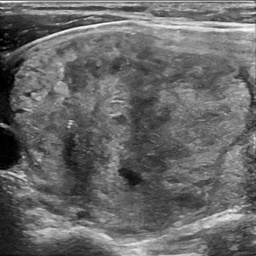mass: (13, 38, 248, 223)
